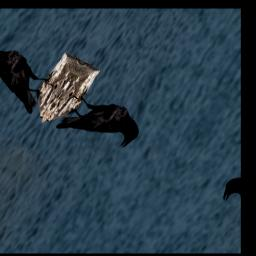Crow: (54, 85, 149, 162)
